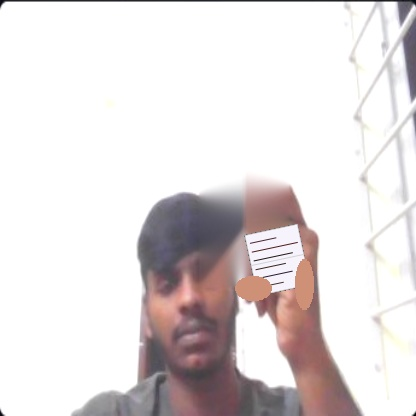cheat_chit: (244, 223, 310, 296)
